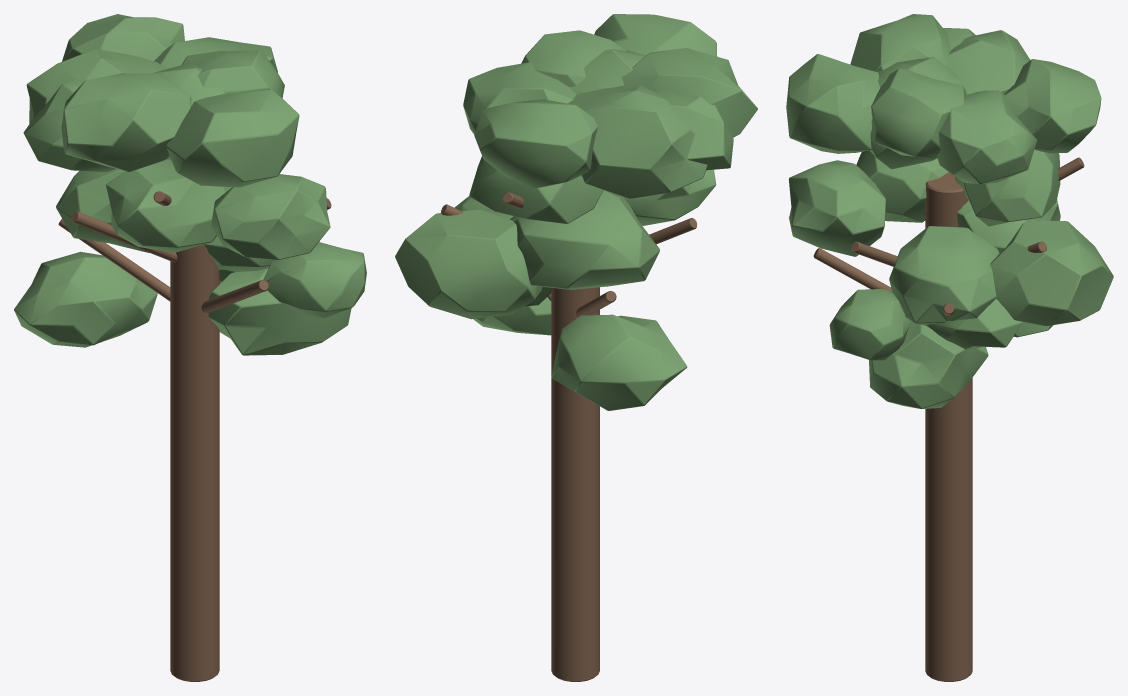
The model's file is tree_broadleaf_03.glb.
3 views of the same model, side by side, from view 1: azimuth 30°, elevation 25°; view 2: azimuth 150°, elevation 25°; view 3: azimuth 270°, elevation 25° (orthographic). The views are drawn at different scales.
Parts seen in each view (by area): view 1: Canopy_Mesh, Trunk_Mesh; view 2: Canopy_Mesh, Trunk_Mesh; view 3: Canopy_Mesh, Trunk_Mesh.
Part boxes in pixels (bbox=[...]): Canopy_Mesh: bbox=[14, 14, 366, 355]; Trunk_Mesh: bbox=[58, 191, 331, 681]; Canopy_Mesh: bbox=[395, 14, 757, 410]; Trunk_Mesh: bbox=[441, 192, 697, 681]; Canopy_Mesh: bbox=[786, 14, 1113, 408]; Trunk_Mesh: bbox=[813, 157, 1084, 681].
Size of the model in its own units: 6.67 by 13.52 by 6.65.
